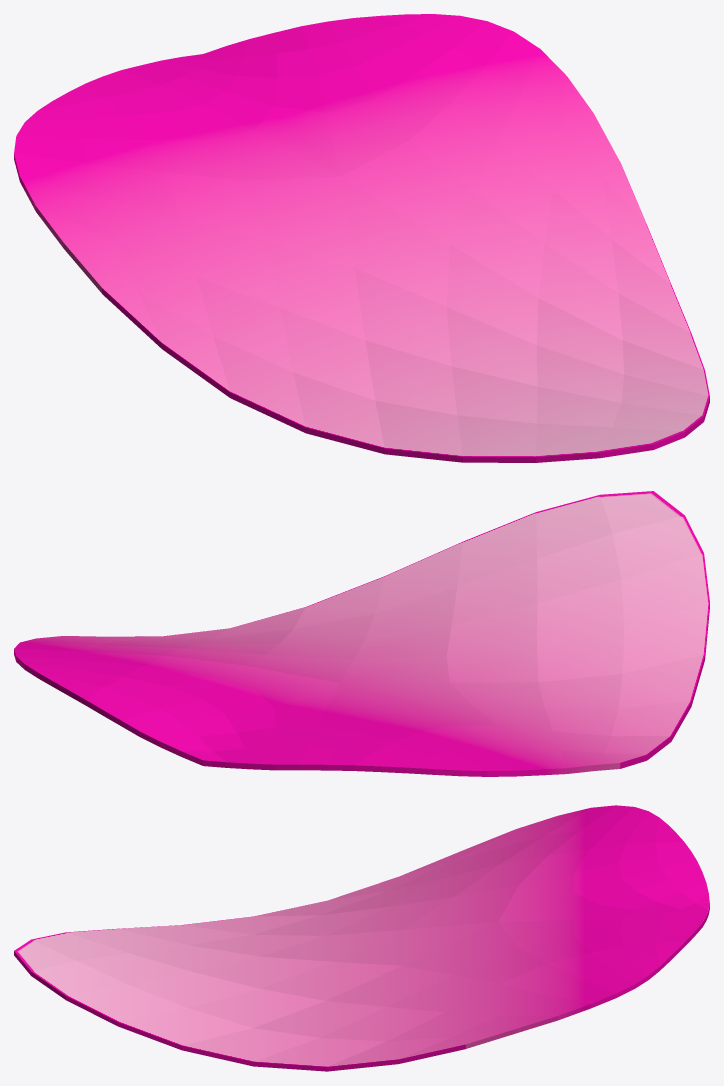
3 renders of one model, top to bottom at view 1: azimuth 30°, elevation 25°; view 2: azimuth 150°, elevation 25°; view 3: azimuth 270°, elevation 25°, orthographic. The views are drawn at different scales.
Parts seen in each view (by area): view 1: 平面; view 2: 平面; view 3: 平面.
Boxes of the visible parts, <box> form: 平面: <box>14,14,709,462</box>; 平面: <box>14,491,709,776</box>; 平面: <box>14,805,709,1071</box>.
Bounding box in the file's own units: 95.83 × 22.78 × 141.
Materials: 1 (1 with a texture image).
